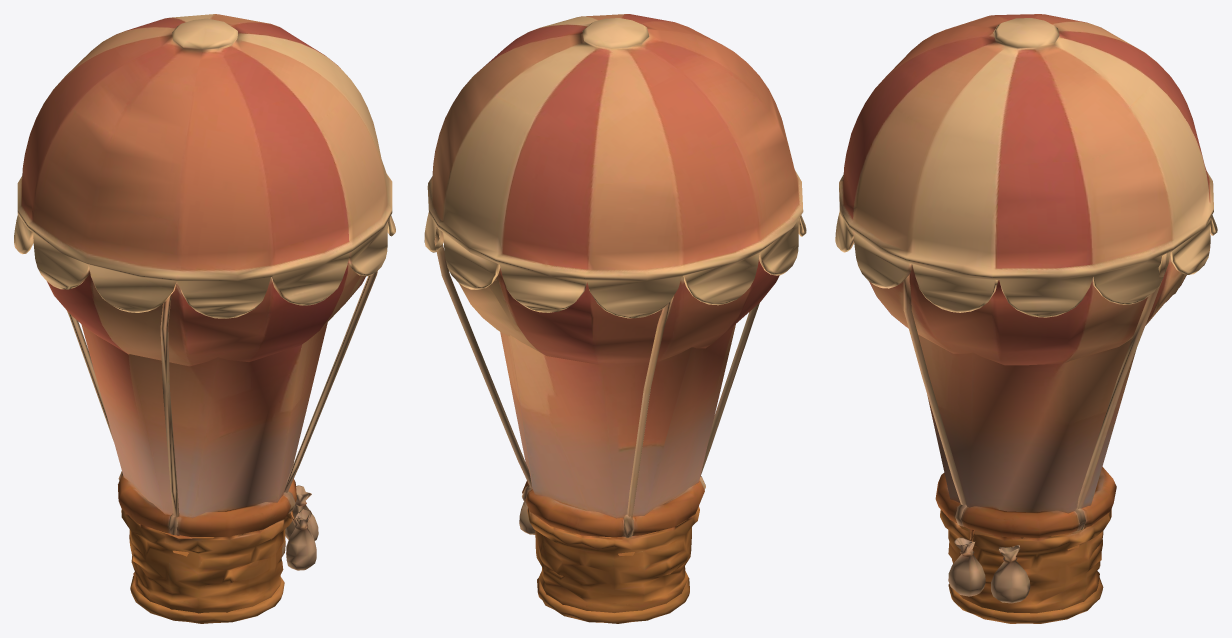
The model's file is hot_air_balloon.glb.
The picture shows the model from 3 angles, left to right: view 1: azimuth 30°, elevation 25°; view 2: azimuth 150°, elevation 25°; view 3: azimuth 270°, elevation 25°; orthographic projection.
Parts seen in each view (by area): view 1: hot_air_balloon; view 2: hot_air_balloon; view 3: hot_air_balloon.
Part boxes in pixels (x1,y1,x2,y2): hot_air_balloon: (14,14,395,623); hot_air_balloon: (424,14,806,623); hot_air_balloon: (835,14,1217,623).
Bounding box in the file's own units: 8.51 × 14 × 8.56.
Materials: 1 (1 with a texture image).
